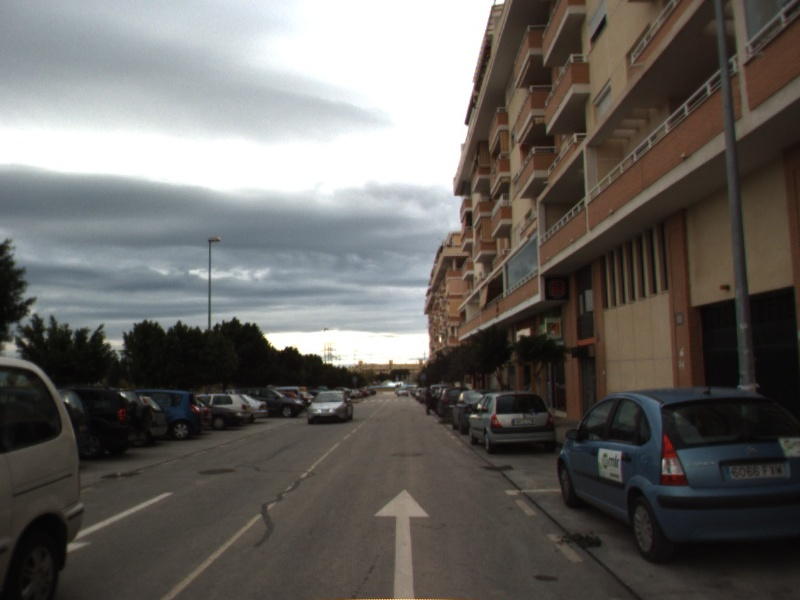STRAIGHT: (372, 486, 432, 600)
